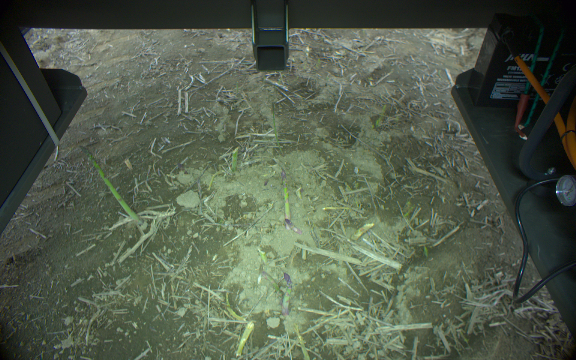aspa: (78, 146, 142, 225), (277, 166, 292, 227), (235, 319, 254, 357), (279, 272, 294, 314), (282, 213, 301, 234), (230, 145, 241, 171)
